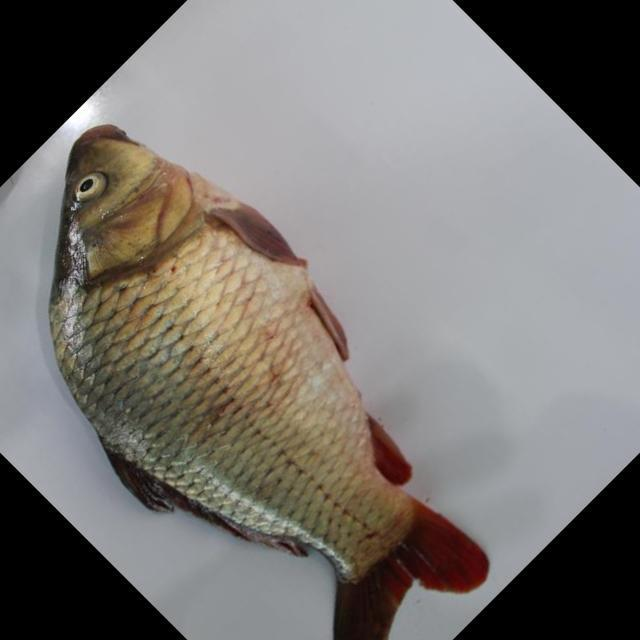CommonCarp: (44, 120, 498, 637)
